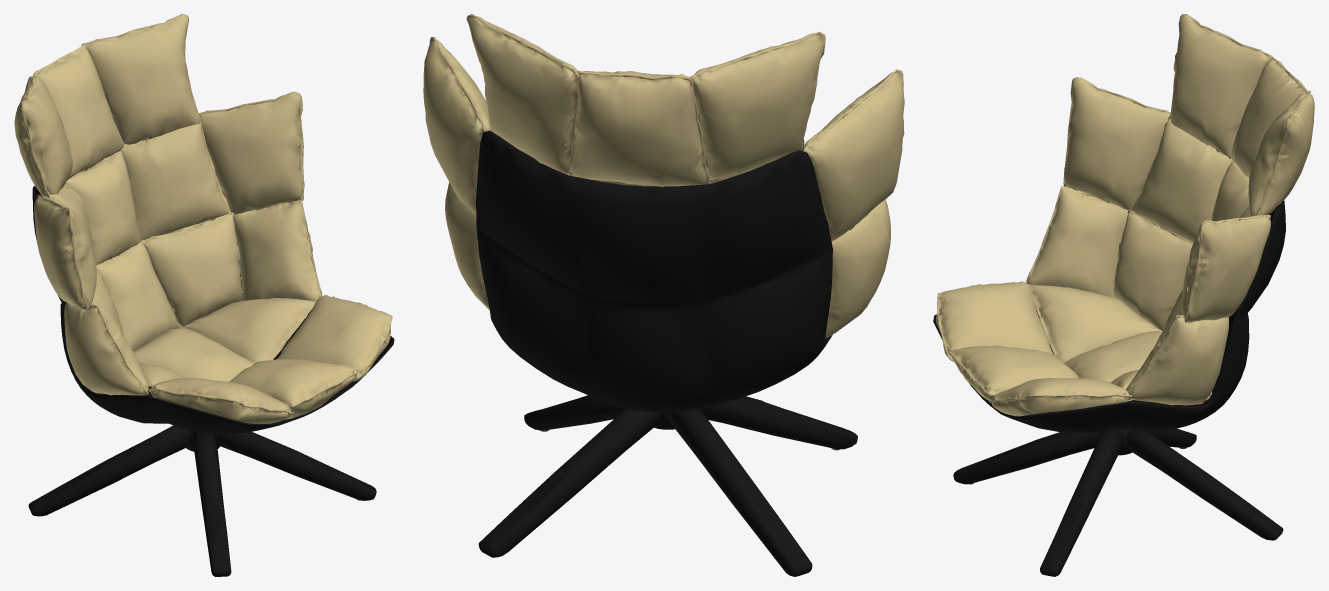
File: chair1.fbx
3 renders of one model, left to right at view 1: azimuth 30°, elevation 25°; view 2: azimuth 150°, elevation 25°; view 3: azimuth 270°, elevation 25°, orthographic. The views are drawn at different scales.
Visible parts, largest first — view 1: Mesh179 Group6 G_3D_H3G_DWG1 Model; view 2: Mesh179 Group6 G_3D_H3G_DWG1 Model; view 3: Mesh179 Group6 G_3D_H3G_DWG1 Model.
Part boxes in pixels (x1,y1,x2,y2): Mesh179 Group6 G_3D_H3G_DWG1 Model: (14,14,394,576); Mesh179 Group6 G_3D_H3G_DWG1 Model: (423,14,904,576); Mesh179 Group6 G_3D_H3G_DWG1 Model: (933,14,1314,576).
Bounding box in the file's own units: 115 × 147 × 120.
